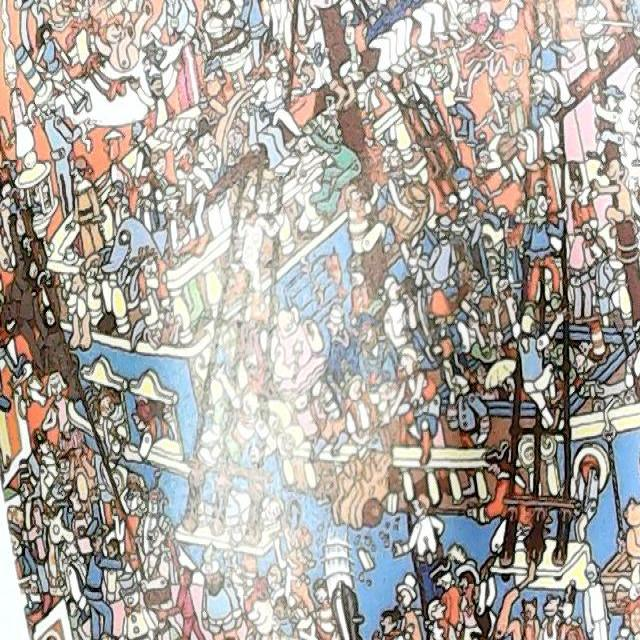waldo: (54, 448, 73, 481)
